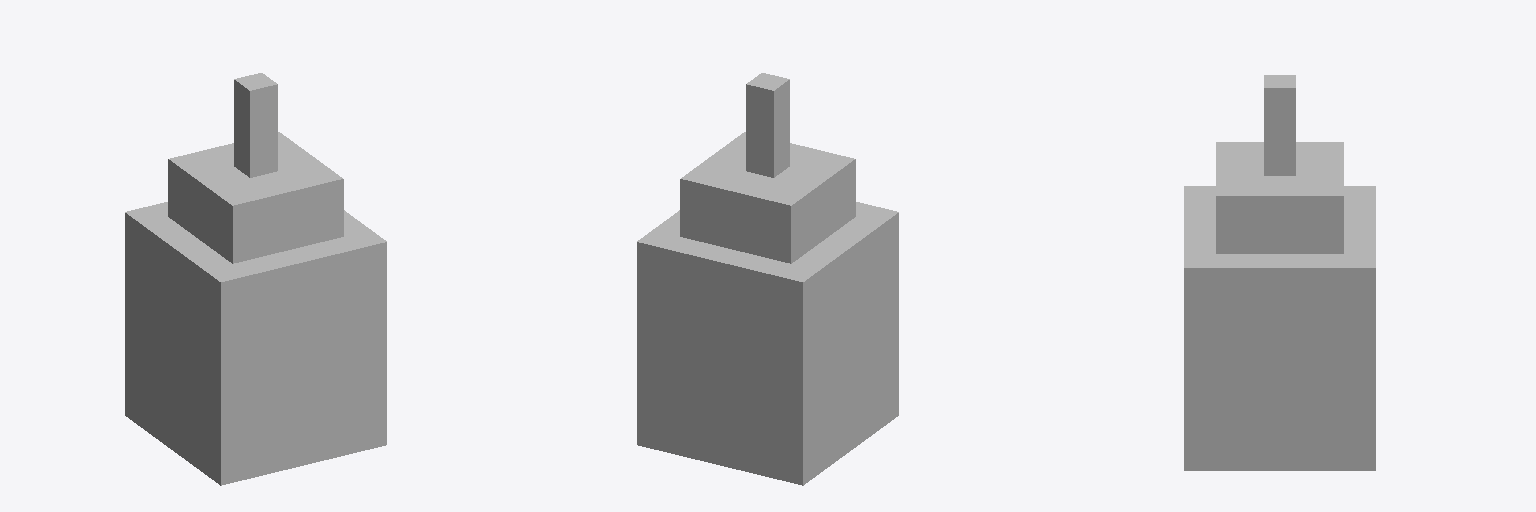
The model's file is ship_lantern.obj.
3 renders of one model, left to right at view 1: azimuth 30°, elevation 25°; view 2: azimuth 150°, elevation 25°; view 3: azimuth 270°, elevation 25°, orthographic.
Visible parts, largest first — view 1: cube; view 2: cube; view 3: cube.
Part boxes in pixels (x1,y1,x2,y2): cube: (125, 73, 386, 485); cube: (637, 73, 898, 485); cube: (1184, 75, 1375, 470).
Bounding box in the file's own units: 0.375 × 0.75 × 0.375.